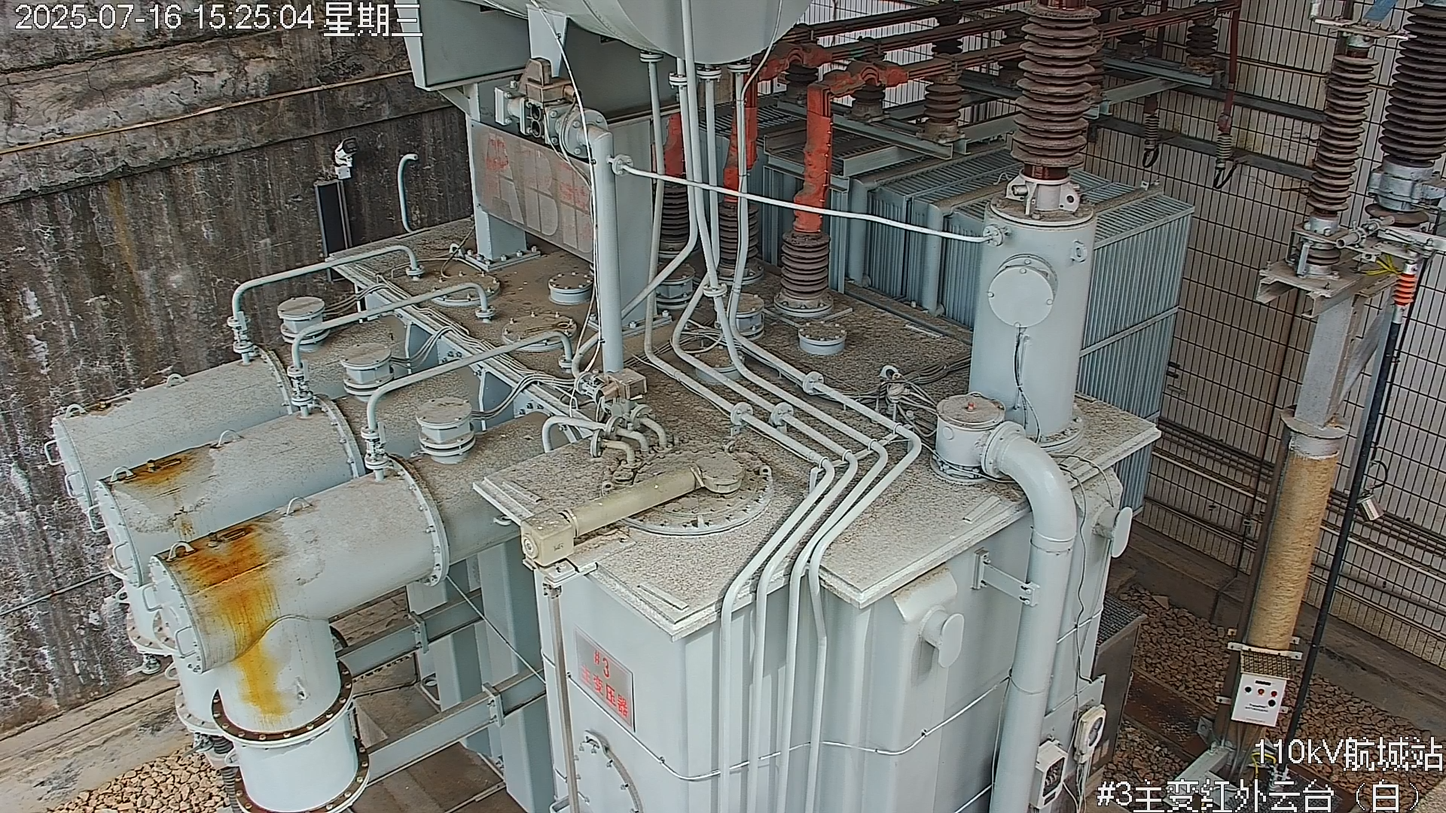MainTR: (42, 1, 1197, 813)
